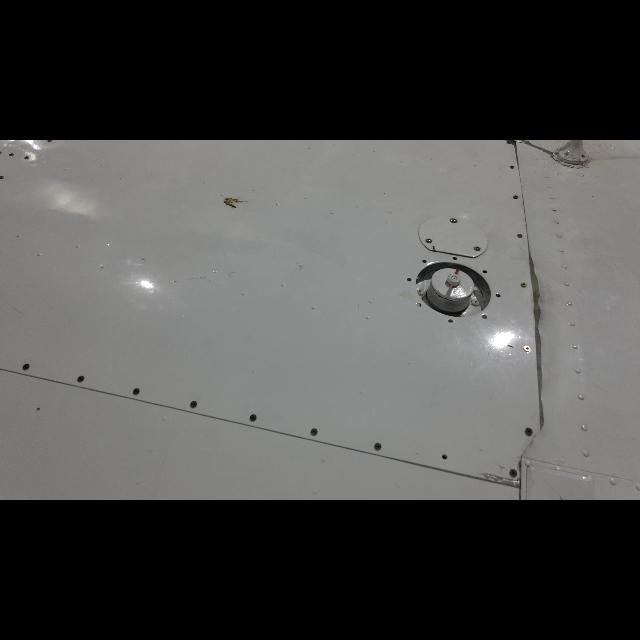Missing Fastener: (438, 452, 454, 466), (446, 318, 456, 327), (450, 254, 460, 262), (420, 257, 428, 265), (414, 302, 424, 308), (406, 276, 412, 284), (494, 292, 502, 298), (481, 314, 489, 320), (482, 268, 488, 274)
dent: (524, 237, 554, 433), (509, 140, 523, 152)
